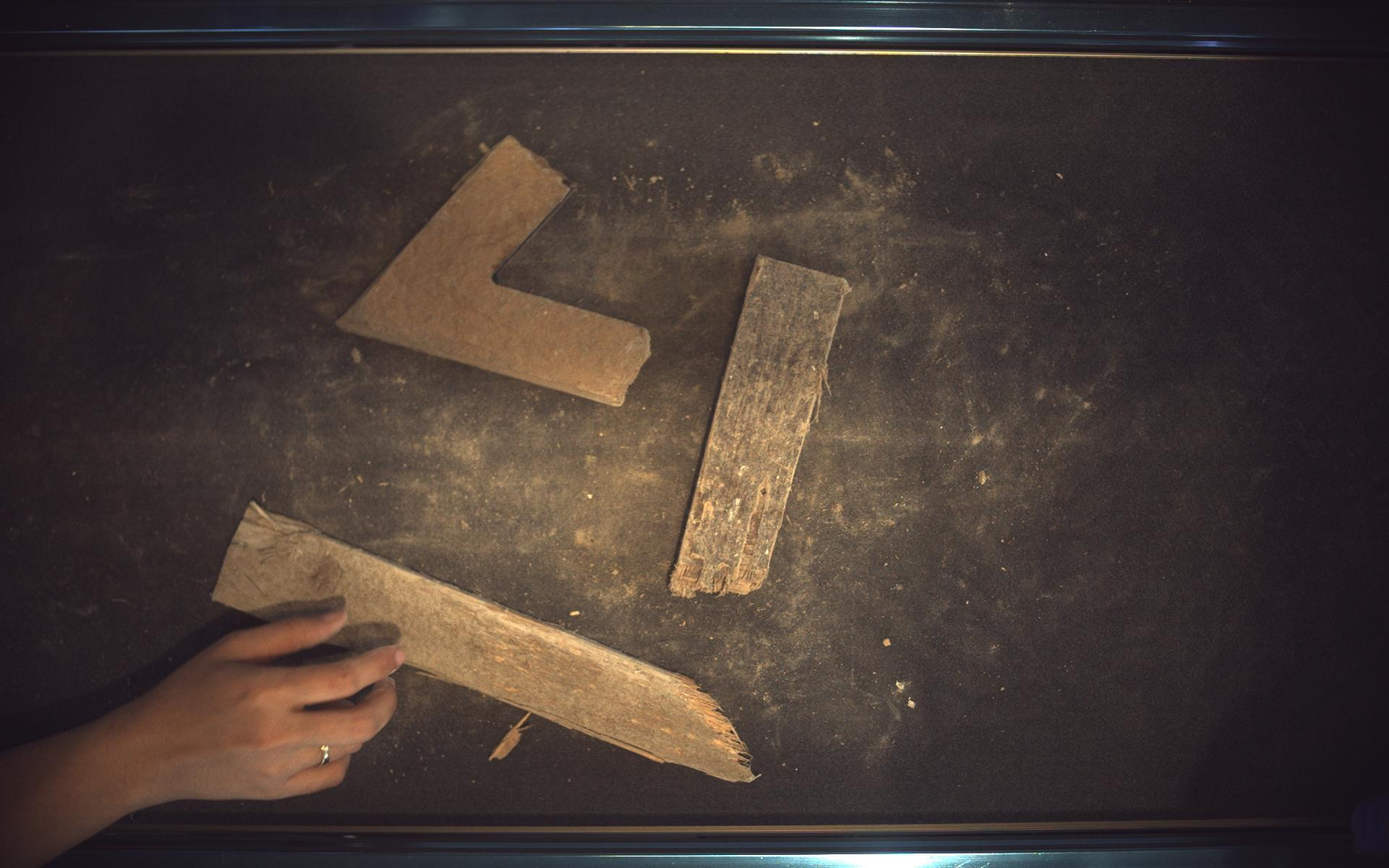wood: (212, 502, 755, 783), (336, 135, 650, 406), (671, 255, 851, 597)
